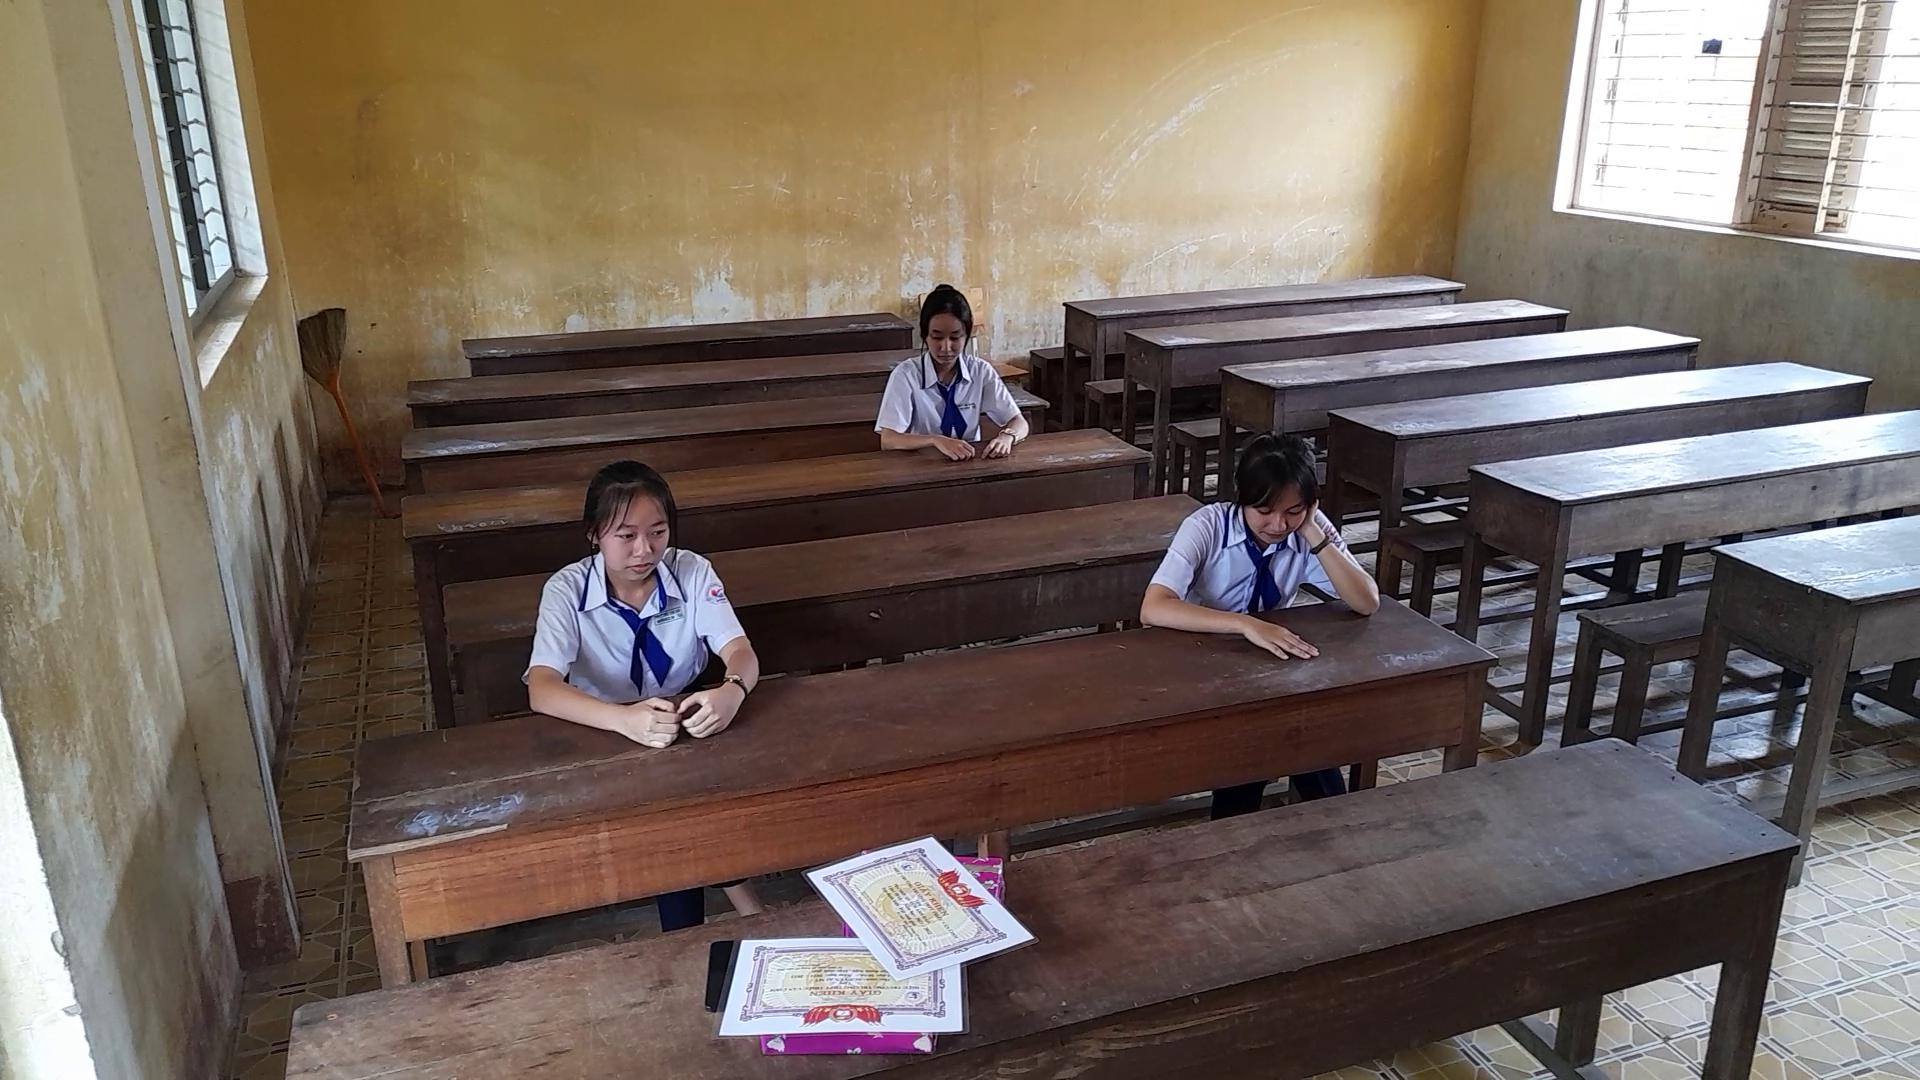Bend Over The Desk: (1209, 414, 1320, 549)
Normal: (510, 451, 775, 753), (865, 272, 1036, 483)
